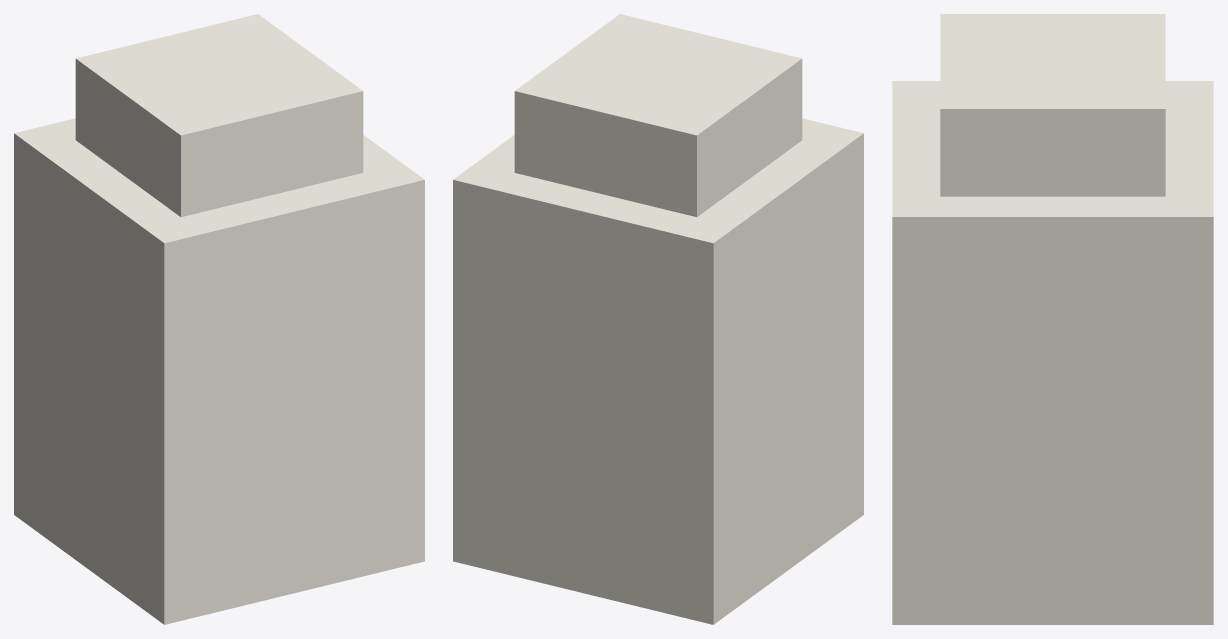
The model's file is egg.glb.
The picture shows the model from 3 angles, left to right: view 1: azimuth 30°, elevation 25°; view 2: azimuth 150°, elevation 25°; view 3: azimuth 270°, elevation 25°; orthographic projection. The views are drawn at different scales.
Parts seen in each view (by area): view 1: egg; view 2: egg; view 3: egg.
Boxes of the visible parts, x1=… form: egg: x1=14, y1=14, x2=424, y2=624; egg: x1=453, y1=14, x2=863, y2=624; egg: x1=892, y1=14, x2=1213, y2=624.
Bounding box in the file's own units: 0.05 × 0.085 × 0.05.
1 material, 1 textured.
